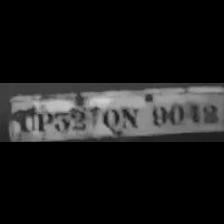0: (160, 98, 184, 124)
3: (64, 102, 86, 132), (53, 104, 69, 130)
4: (196, 97, 220, 123), (118, 101, 140, 129)
P: (14, 104, 36, 134), (36, 102, 54, 132)
U: (186, 97, 204, 123)
